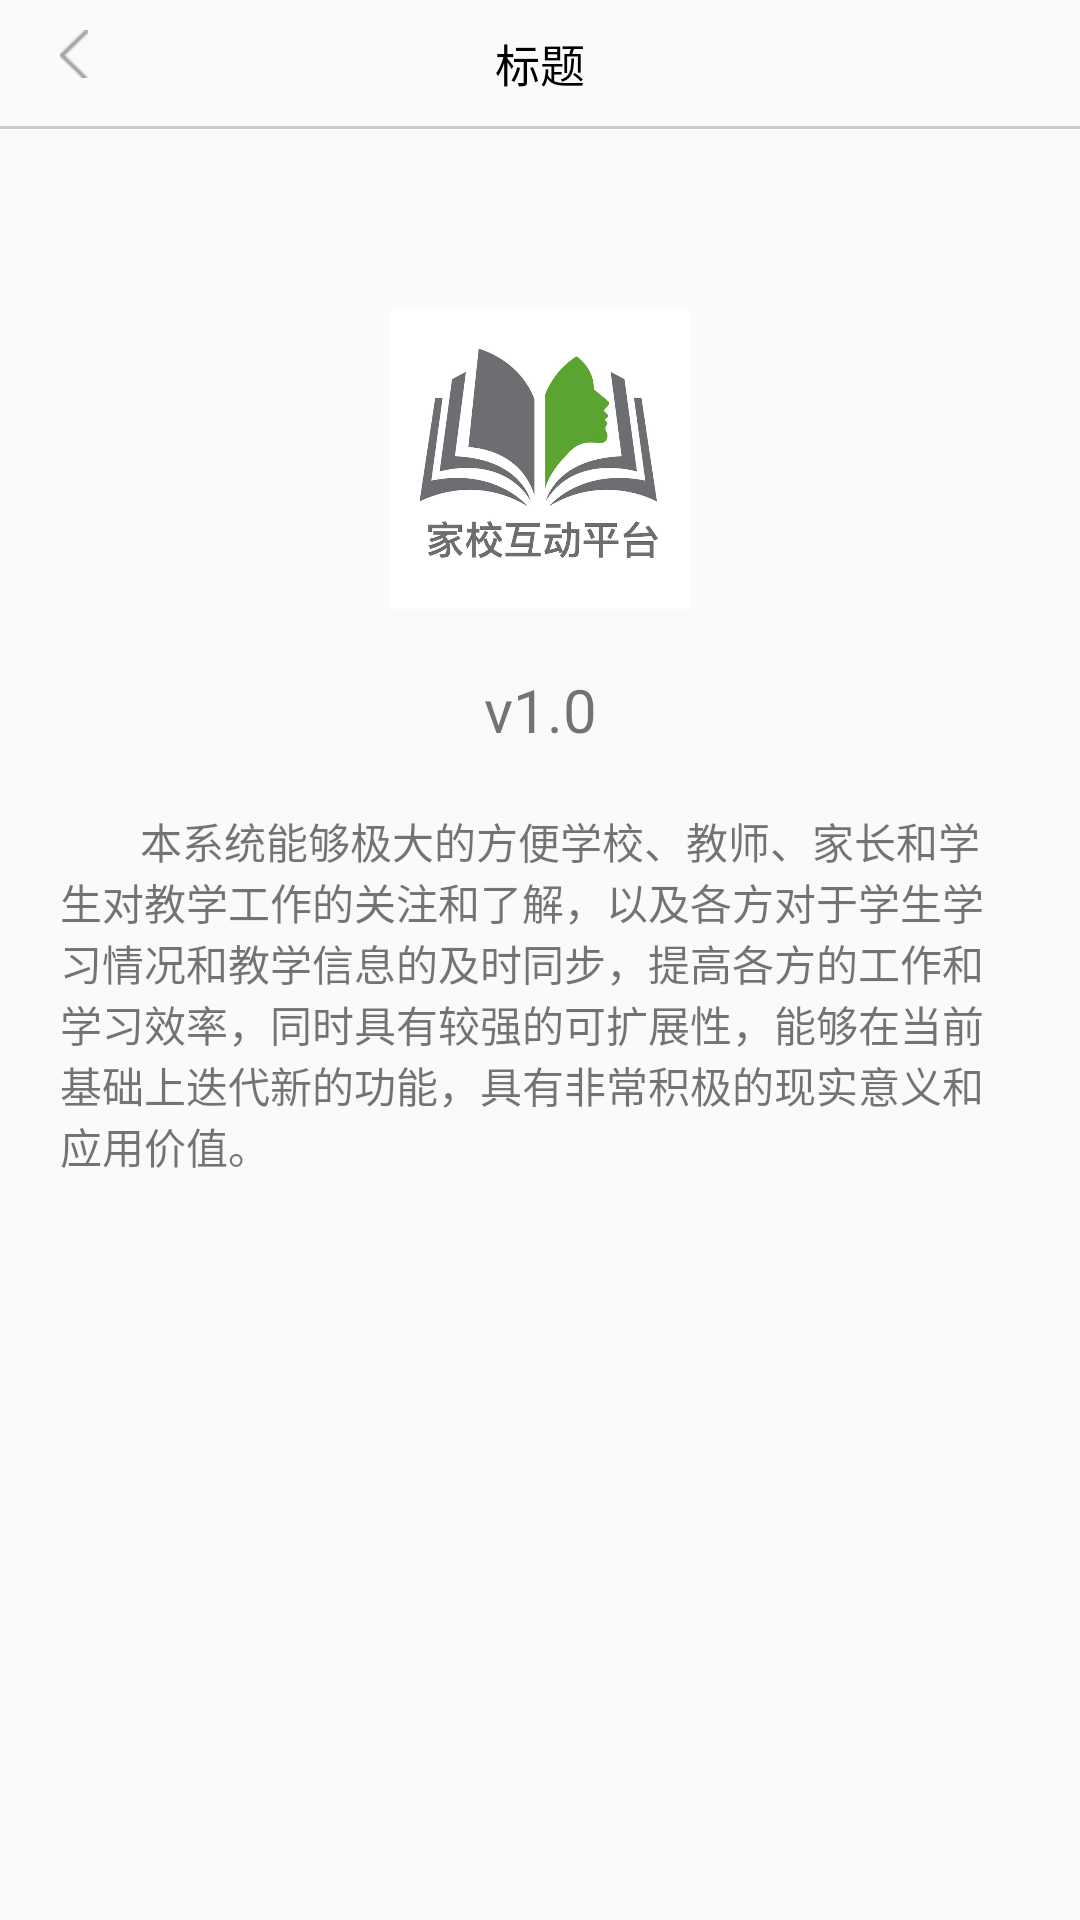

Where icons sit on this 1080px×1920px app screen, as (x1, y1, x2, y2):
back: (60, 30, 88, 78)
